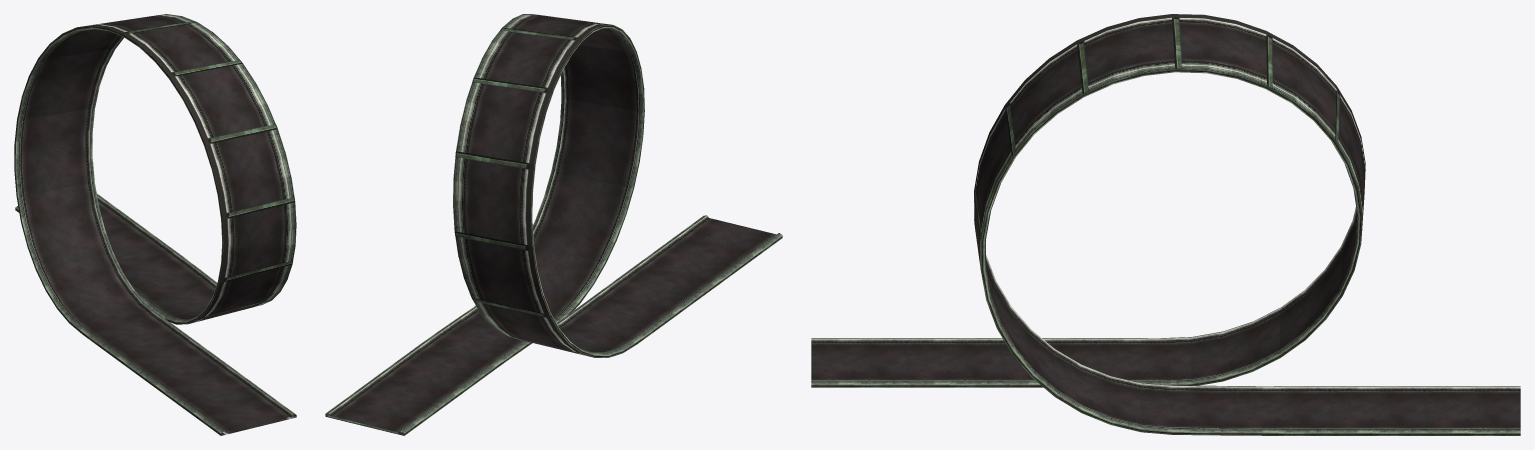
The model's file is Looping.fbx.
3 renders of one model, left to right at view 1: azimuth 30°, elevation 25°; view 2: azimuth 150°, elevation 25°; view 3: azimuth 270°, elevation 25°, orthographic. The views are drawn at different scales.
Parts seen in each view (by area): view 1: Looping; view 2: Looping; view 3: Looping.
Part boxes in pixels (x1,y1,x2,y2): Looping: (14, 14, 296, 435); Looping: (325, 14, 782, 435); Looping: (811, 14, 1520, 435).
Size of what is drawn, in the model's own units: 37.51 by 66.64 by 120.
